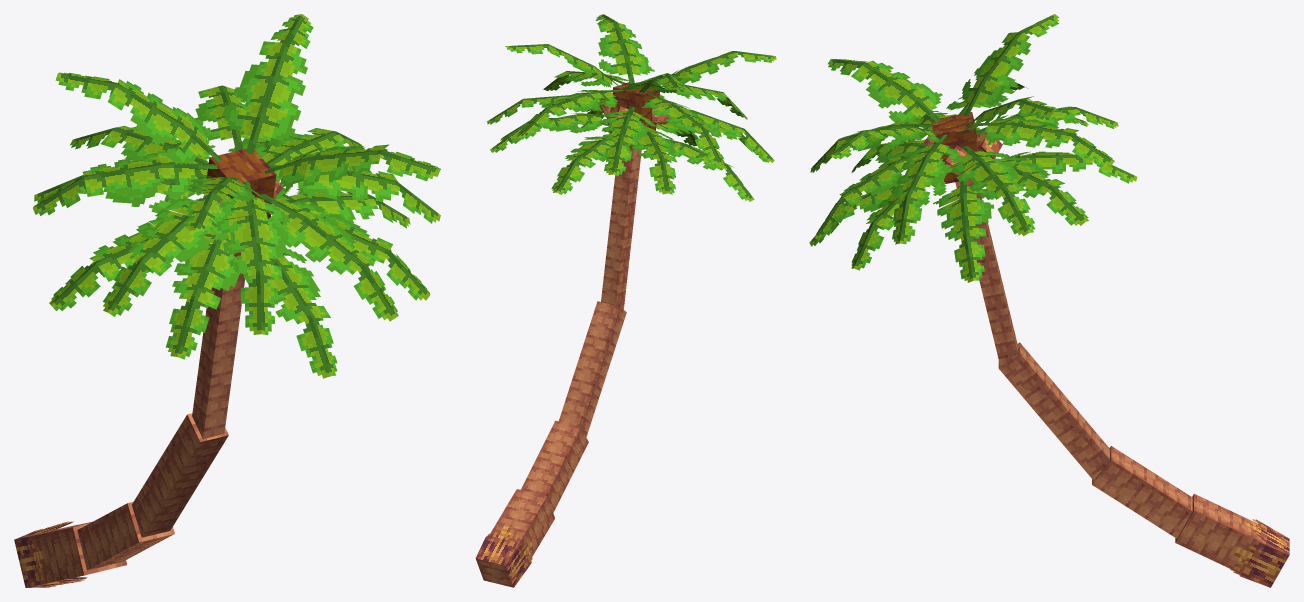
File: Palm4-named-nodes.gltf
3 renders of one model, left to right at view 1: azimuth 30°, elevation 25°; view 2: azimuth 150°, elevation 25°; view 3: azimuth 270°, elevation 25°, orthographic. The views are drawn at different scales.
Visible parts, largest first — view 1: cube (×61); view 2: cube (×33); view 3: cube (×27).
Part boxes in pixels (x1,y1,x2,y2): cube (×61): (14,41,440,587); cube (×33): (475,22,744,587); cube (×27): (842,32,1289,587).
Bounding box in the file's own units: 6.26 × 10.62 × 8.94.
1 material, 1 textured.
